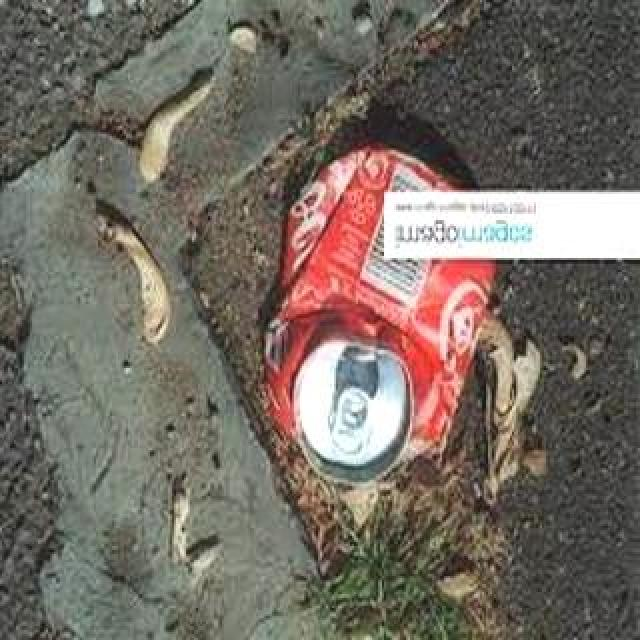Can: (271, 146, 497, 478)
